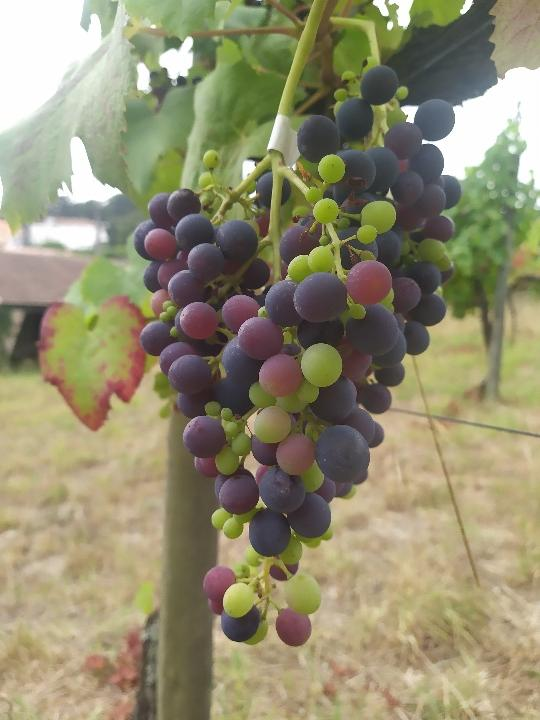grape: (130, 53, 465, 649)
